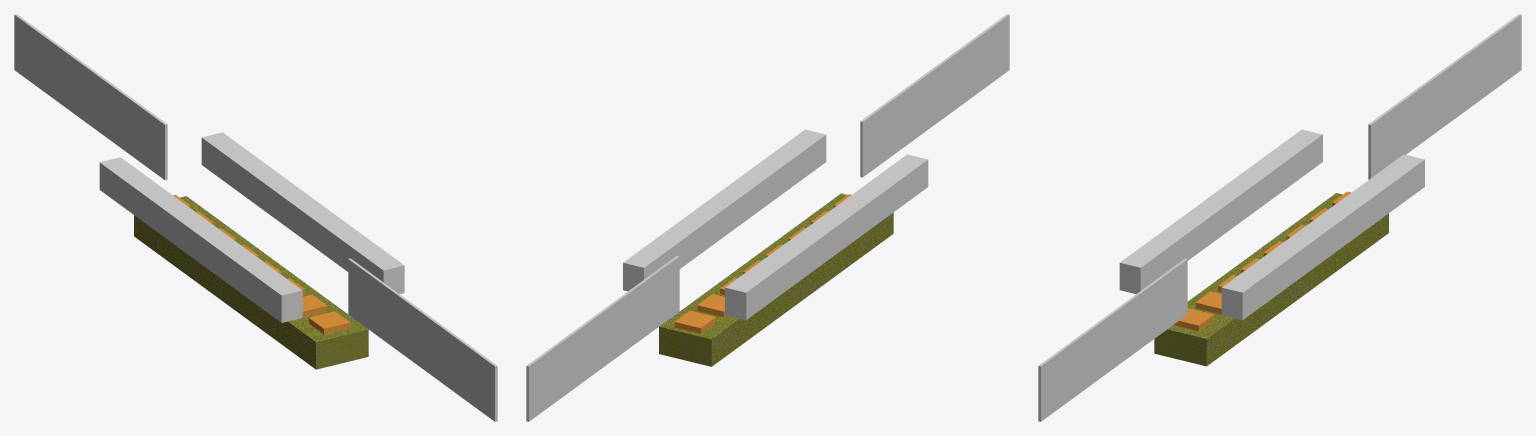
File: TrenchMesh.fbx
The picture shows the model from 3 angles, left to right: view 1: azimuth 30°, elevation 25°; view 2: azimuth 150°, elevation 25°; view 3: azimuth 330°, elevation 25°; orthographic projection.
Visible parts, largest first — view 1: StopIfNoPath__1_, Obstacle, StopIfNoPath, Obstacle_1, TrenchMesh, Link__6_; view 2: StopIfNoPath__1_, Obstacle, StopIfNoPath, Obstacle_1, TrenchMesh, Link___1_, Link; view 3: StopIfNoPath, StopIfNoPath__1_, Obstacle, Obstacle_1, TrenchMesh, Link__6_, Link__5_.
Boxes of the visible parts, <box> form: StopIfNoPath__1_: <box>99,157,302,322</box>; Obstacle: <box>14,14,167,180</box>; StopIfNoPath: <box>201,132,404,293</box>; Obstacle_1: <box>348,258,497,421</box>; TrenchMesh: <box>134,196,368,369</box>; Link__6_: <box>308,311,350,334</box>; StopIfNoPath__1_: <box>725,154,928,319</box>; Obstacle: <box>526,255,679,421</box>; StopIfNoPath: <box>623,129,826,291</box>; Obstacle_1: <box>860,14,1009,177</box>; TrenchMesh: <box>659,193,893,366</box>; Link___1_: <box>674,311,715,333</box>; Link: <box>697,294,725,317</box>; StopIfNoPath: <box>1221,154,1424,320</box>; StopIfNoPath__1_: <box>1119,129,1322,293</box>; Obstacle: <box>1368,14,1521,179</box>; Obstacle_1: <box>1038,258,1187,421</box>; TrenchMesh: <box>1154,193,1388,366</box>; Link__6_: <box>1173,308,1213,331</box>; Link__5_: <box>1195,291,1221,314</box>.
Size of what is drawn, in the model's own units: 468 by 376 by 3168.
3 materials, 1 textured.
